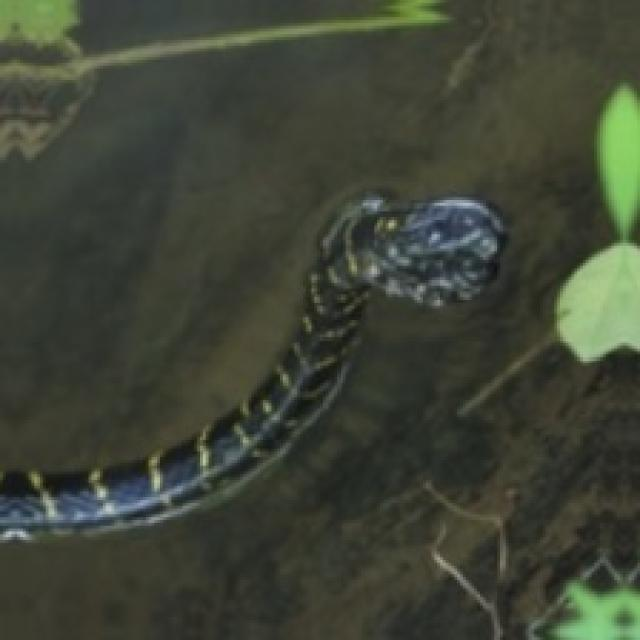mangrove cat snake: (0, 194, 503, 540)
